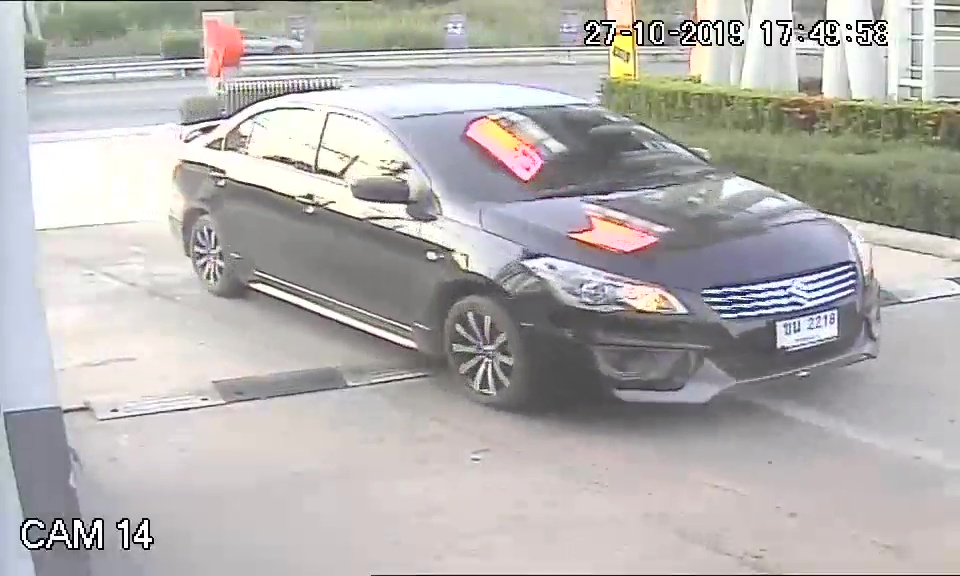sedan: (157, 76, 886, 416)
